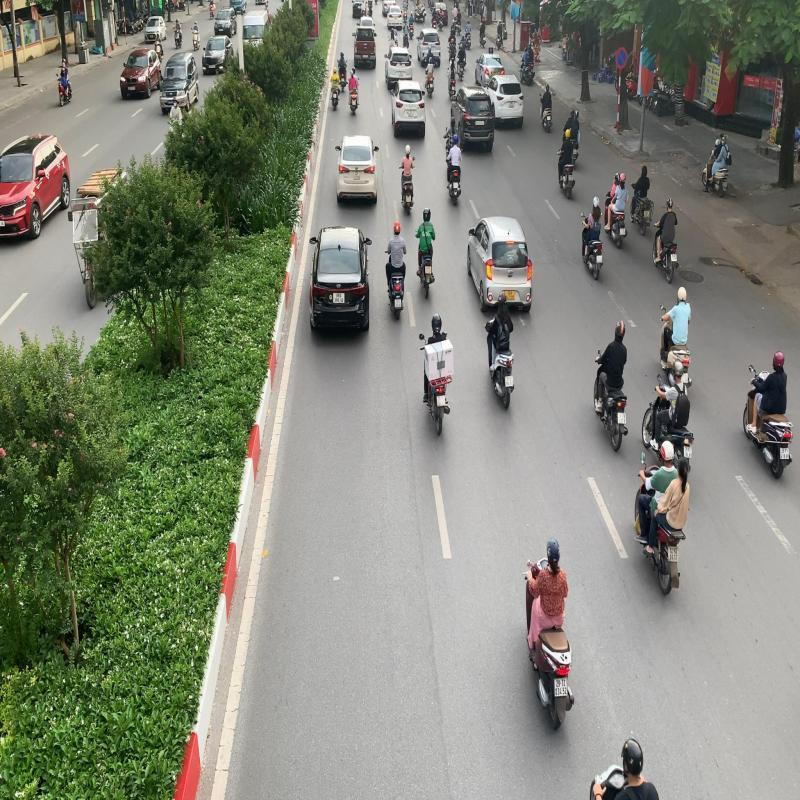helmet: (660, 440, 675, 461)
licenseplate: (668, 546, 678, 562)
motorcyclist: (632, 438, 693, 601)
nohelmet: (678, 457, 688, 479)
